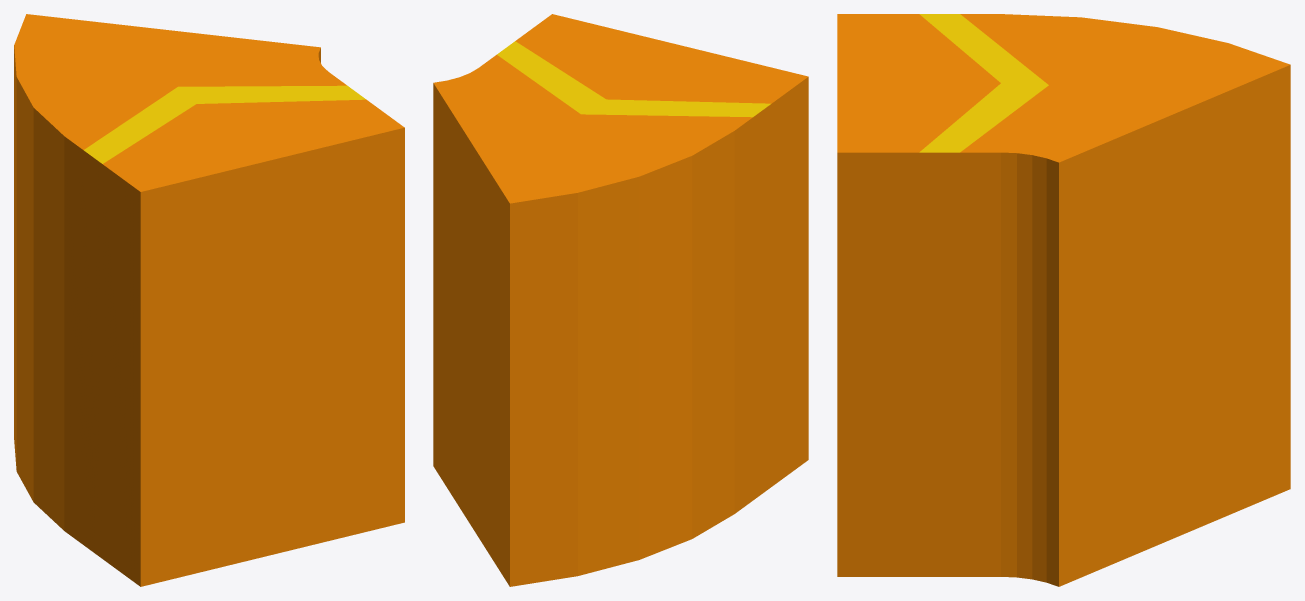
File: Floor3.fbx
The picture shows the model from 3 angles, left to right: view 1: azimuth 30°, elevation 25°; view 2: azimuth 150°, elevation 25°; view 3: azimuth 270°, elevation 25°; orthographic projection. The views are drawn at different scales.
Visible parts, largest first — view 1: Cube.001; view 2: Cube.001; view 3: Cube.001.
Boxes of the visible parts, box(x1,y1,x2,y2) form: Cube.001: box(14, 14, 404, 586); Cube.001: box(433, 14, 808, 586); Cube.001: box(837, 14, 1290, 586).
Bounding box in the file's own units: 902 × 1200 × 1162.
